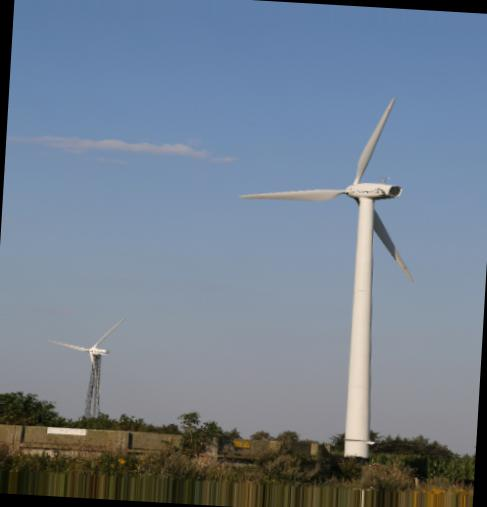wind turbine: (238, 96, 419, 457), (44, 318, 128, 427)
